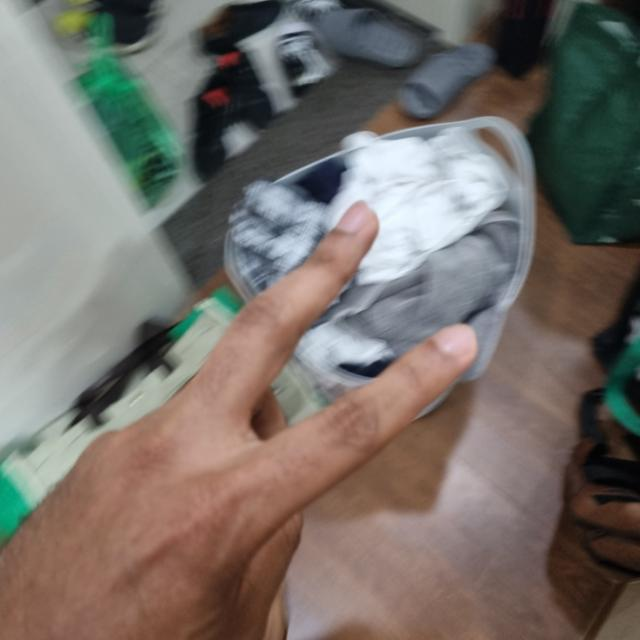Scissors: (0, 205, 472, 639)
